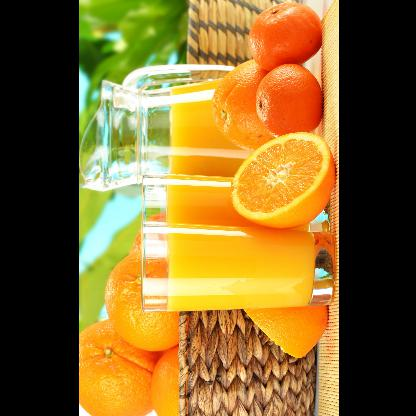orange juice: (166, 225, 316, 313), (162, 174, 312, 233), (166, 76, 252, 178)
